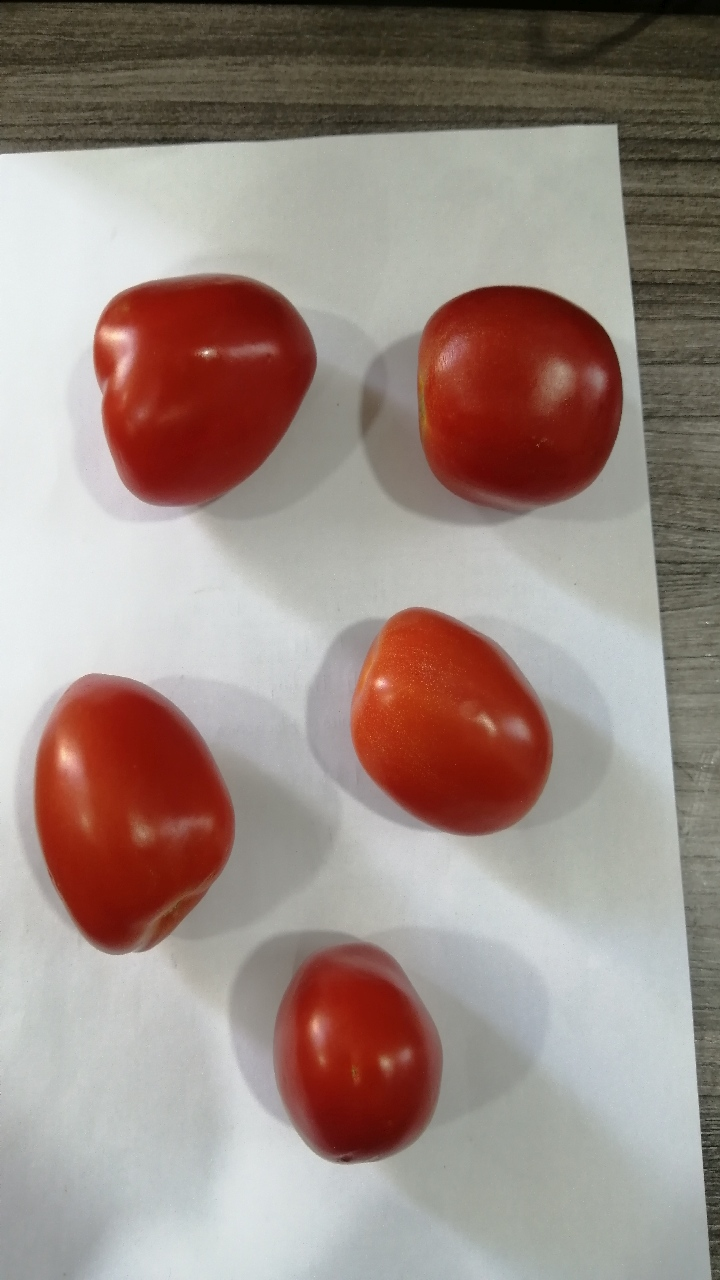tomateRojo: (75, 248, 324, 532), (381, 249, 637, 517), (332, 586, 569, 839), (28, 665, 231, 959), (268, 932, 452, 1185)
